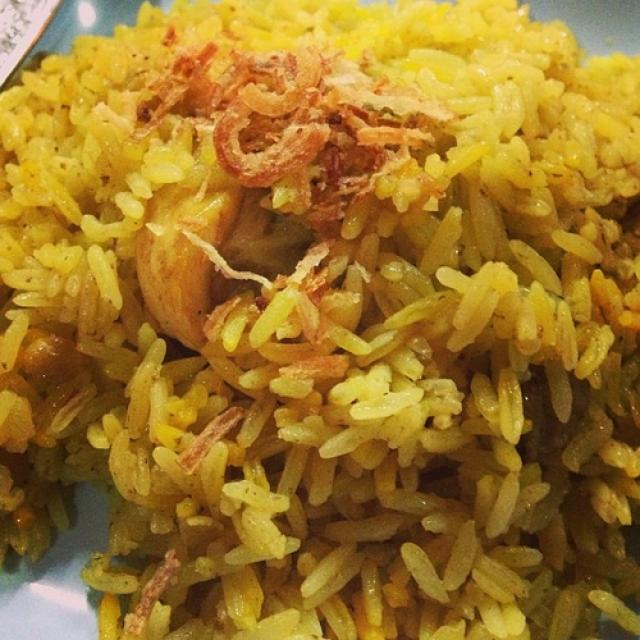米饭主食: (5, 0, 623, 618)
